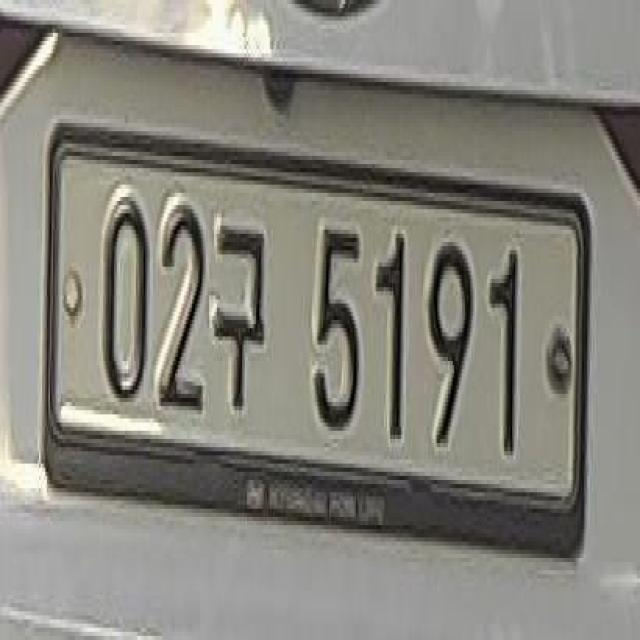illegal_plate: (39, 119, 598, 589)
